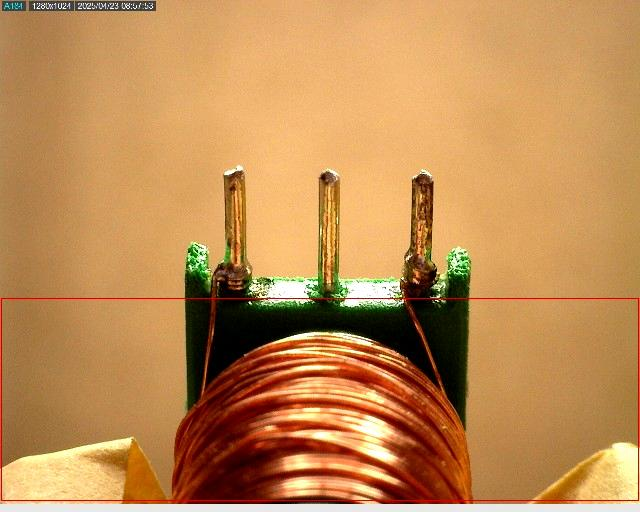obsolete: (392, 163, 448, 292)
